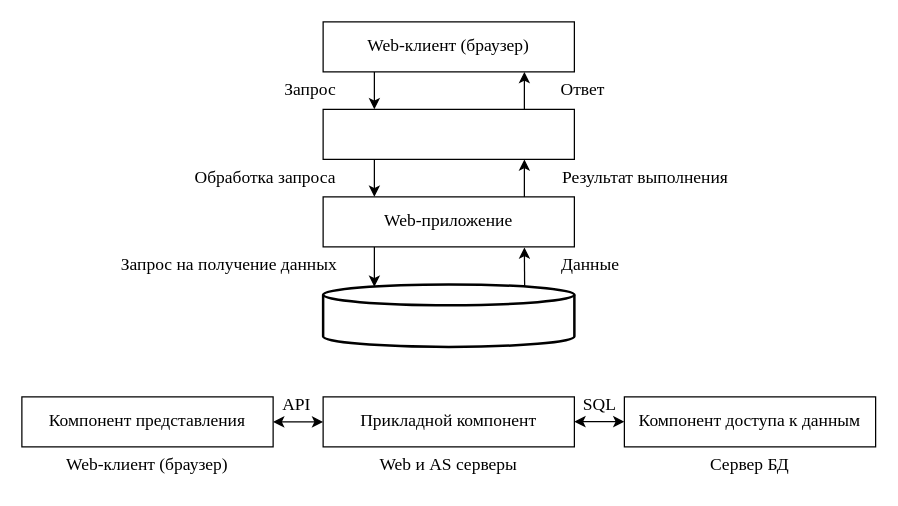
The diagram is 898 pixels wide and 506 high, and some of its shapes have lost their labels. The shapes that lost their labels are listed below. From the top down, each one's centre as x and y in pixels, then its label:
[448,133]: Web-сервер
[448,315]: СУБД+БД
